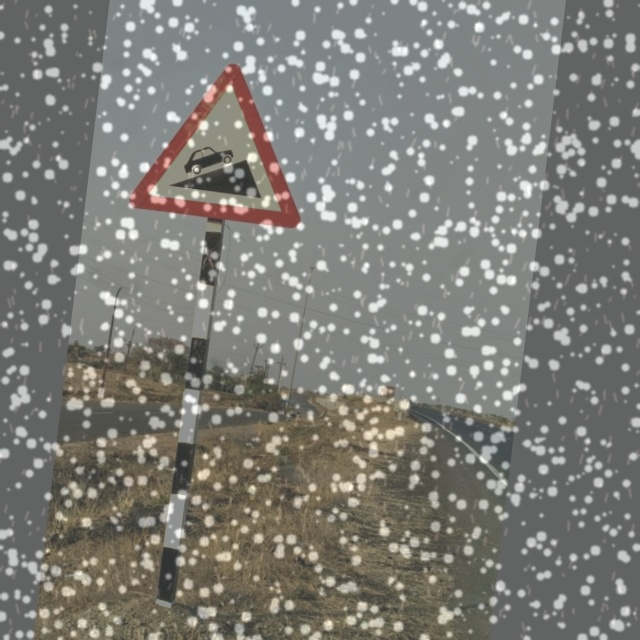Steep_Ascent: (123, 53, 320, 239)
